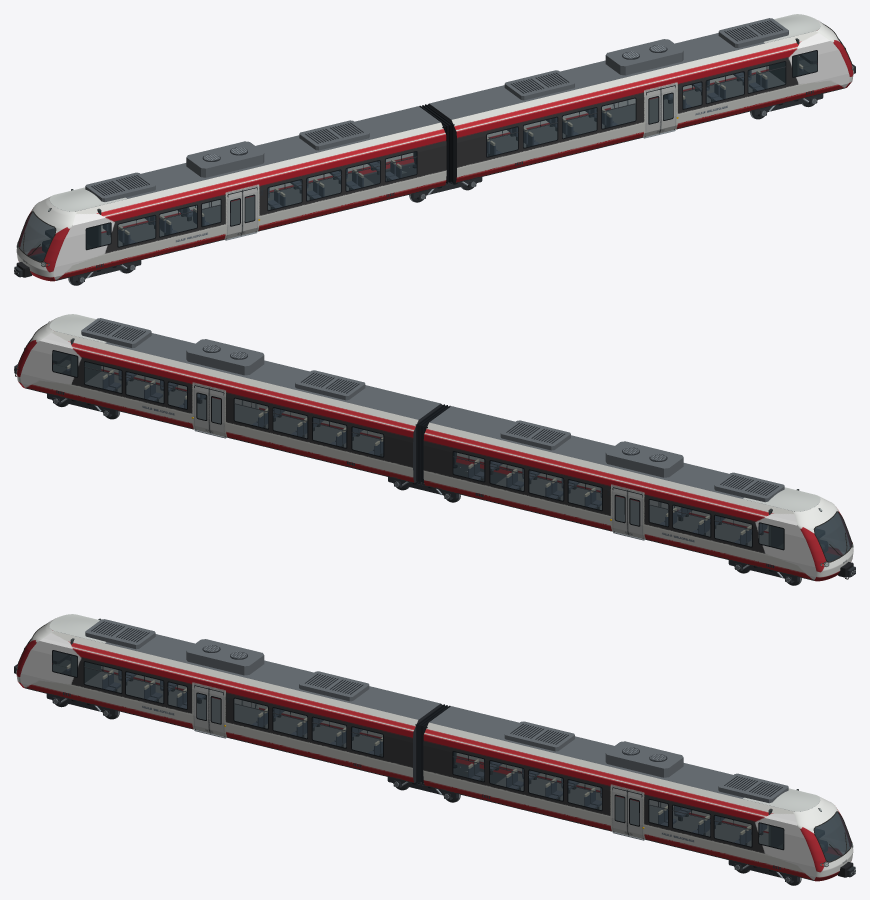
3 renders of one model, top to bottom at view 1: azimuth 30°, elevation 25°; view 2: azimuth 150°, elevation 25°; view 3: azimuth 330°, elevation 25°, orthographic.
Parts seen in each view (by area): view 1: Poszycie 1, Poszycie 2, Osprzęt i wnętrze 2, Osprzęt i wnętrze 1, Powłoka i przeszklenie 1, Optyka, sprzęg i pulpit 1, Optyka, sprzęg i pulpit 2, Przegub 1; view 2: Poszycie 1, Poszycie 2, Osprzęt i wnętrze 2, Osprzęt i wnętrze 1, Powłoka i przeszklenie 1, Optyka, sprzęg i pulpit 1, Optyka, sprzęg i pulpit 2, Przegub 1; view 3: Poszycie 2, Poszycie 1, Osprzęt i wnętrze 1, Osprzęt i wnętrze 2, Powłoka i przeszklenie 2, Optyka, sprzęg i pulpit 2, Optyka, sprzęg i pulpit 1, Przegub 1.
Boxes of the visible parts, x1=… form: Poszycie 1: x1=20, y1=106, x2=446, y2=280; Poszycie 2: x1=429, y1=31, x2=849, y2=183; Osprzęt i wnętrze 2: x1=427, y1=18, x2=817, y2=182; Osprzęt i wnętrze 1: x1=42, y1=120, x2=417, y2=268; Powłoka i przeszklenie 1: x1=16, y1=196, x2=76, y2=281; Optyka, sprzęg i pulpit 1: x1=14, y1=187, x2=126, y2=277; Optyka, sprzęg i pulpit 2: x1=764, y1=14, x2=855, y2=74; Przegub 1: x1=415, y1=104, x2=454, y2=183; Poszycie 1: x1=423, y1=406, x2=849, y2=580; Poszycie 2: x1=20, y1=331, x2=440, y2=483; Osprzęt i wnętrze 2: x1=52, y1=318, x2=442, y2=482; Osprzęt i wnętrze 1: x1=452, y1=420, x2=827, y2=567; Powłoka i przeszklenie 1: x1=793, y1=496, x2=853, y2=581; Optyka, sprzęg i pulpit 1: x1=743, y1=487, x2=855, y2=579; Optyka, sprzęg i pulpit 2: x1=14, y1=314, x2=106, y2=376; Przegub 1: x1=415, y1=404, x2=454, y2=483; Poszycie 2: x1=423, y1=706, x2=849, y2=880; Poszycie 1: x1=20, y1=631, x2=440, y2=783; Osprzęt i wnętrze 1: x1=52, y1=618, x2=442, y2=782; Osprzęt i wnętrze 2: x1=452, y1=721, x2=827, y2=869; Powłoka i przeszklenie 2: x1=793, y1=796, x2=853, y2=881; Optyka, sprzęg i pulpit 2: x1=743, y1=788, x2=855, y2=877; Optyka, sprzęg i pulpit 1: x1=14, y1=614, x2=105, y2=674; Przegub 1: x1=415, y1=704, x2=454, y2=783.
Size of the model in its own units: 41.7 by 4.15 by 2.95.
Materials: 29 (5 with a texture image).
